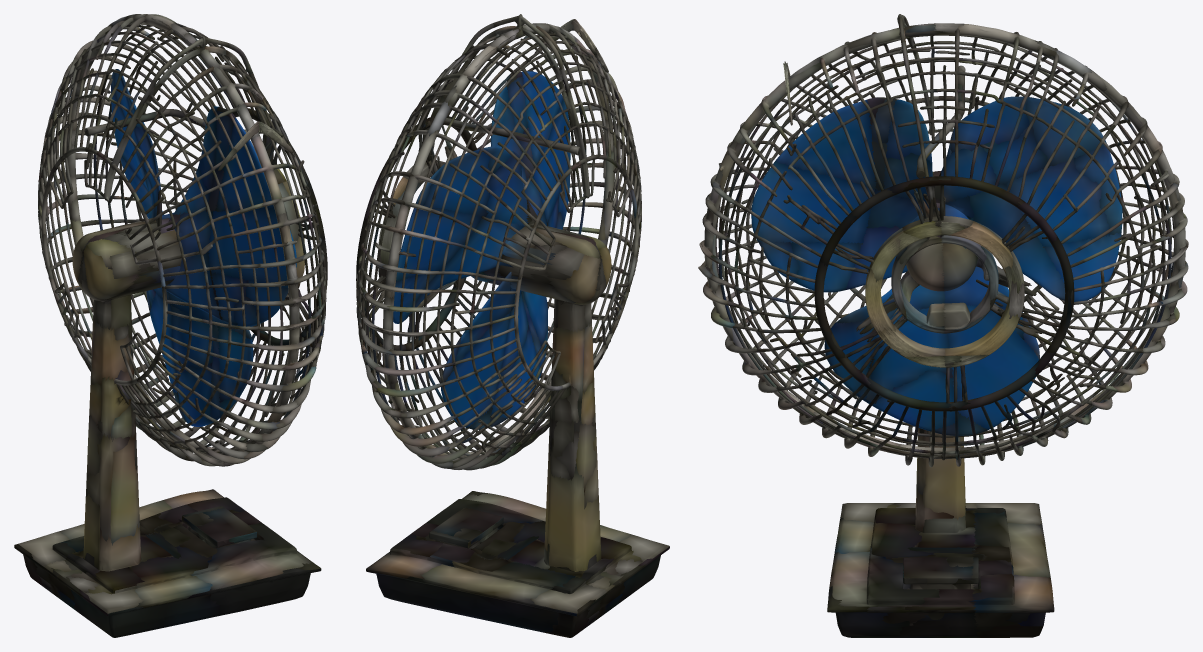
File: vintage-electric-fan.glb
3 views of the same model, side by side, from view 1: azimuth 30°, elevation 25°; view 2: azimuth 150°, elevation 25°; view 3: azimuth 270°, elevation 25° (orthographic). The views are drawn at different scales.
Parts seen in each view (by area): view 1: tripo_node_cedee14e-4ed7-4dac-81ad-14e59605aaa0; view 2: tripo_node_cedee14e-4ed7-4dac-81ad-14e59605aaa0; view 3: tripo_node_cedee14e-4ed7-4dac-81ad-14e59605aaa0.
Boxes of the visible parts, <box> form: tripo_node_cedee14e-4ed7-4dac-81ad-14e59605aaa0: <box>14,14,327,637</box>; tripo_node_cedee14e-4ed7-4dac-81ad-14e59605aaa0: <box>356,14,669,637</box>; tripo_node_cedee14e-4ed7-4dac-81ad-14e59605aaa0: <box>698,14,1188,637</box>.
Bounding box in the file's own units: 0.3845 × 0.9809 × 0.7405.
Materials: 1 (1 with a texture image).
